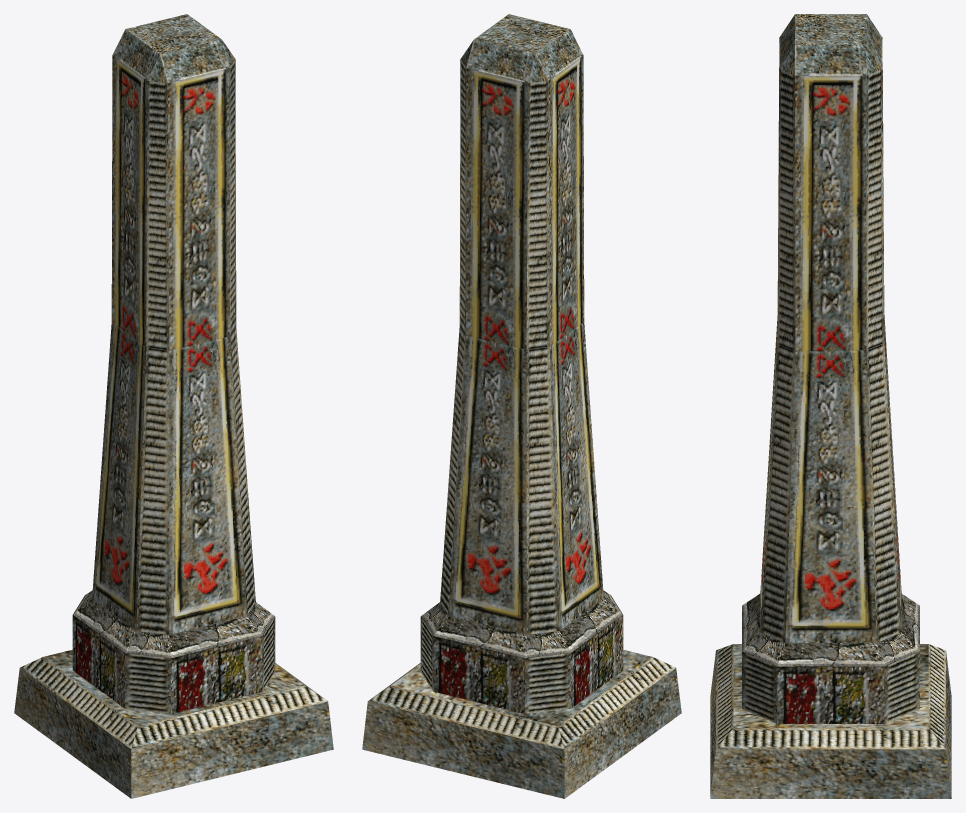
File: Totem_Small.fbx
3 views of the same model, side by side, from view 1: azimuth 30°, elevation 25°; view 2: azimuth 150°, elevation 25°; view 3: azimuth 270°, elevation 25° (orthographic). The views are drawn at different scales.
Parts seen in each view (by area): view 1: object_2; view 2: object_2; view 3: object_2.
Part boxes in pixels (left/top/right/bottom): object_2: left=14, top=14, right=333, bottom=798; object_2: left=362, top=14, right=681, bottom=798; object_2: left=710, top=14, right=951, bottom=798.
Size of the model in its own units: 182 by 600 by 183.
